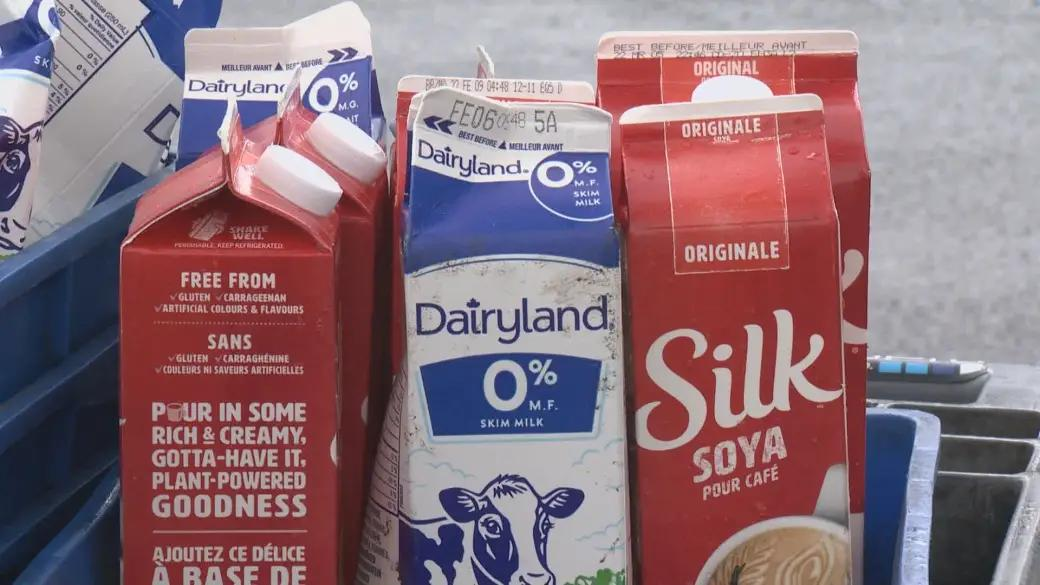cardboard: (597, 31, 869, 584), (357, 77, 627, 584), (120, 82, 386, 584), (0, 0, 180, 253), (179, 2, 384, 163)
